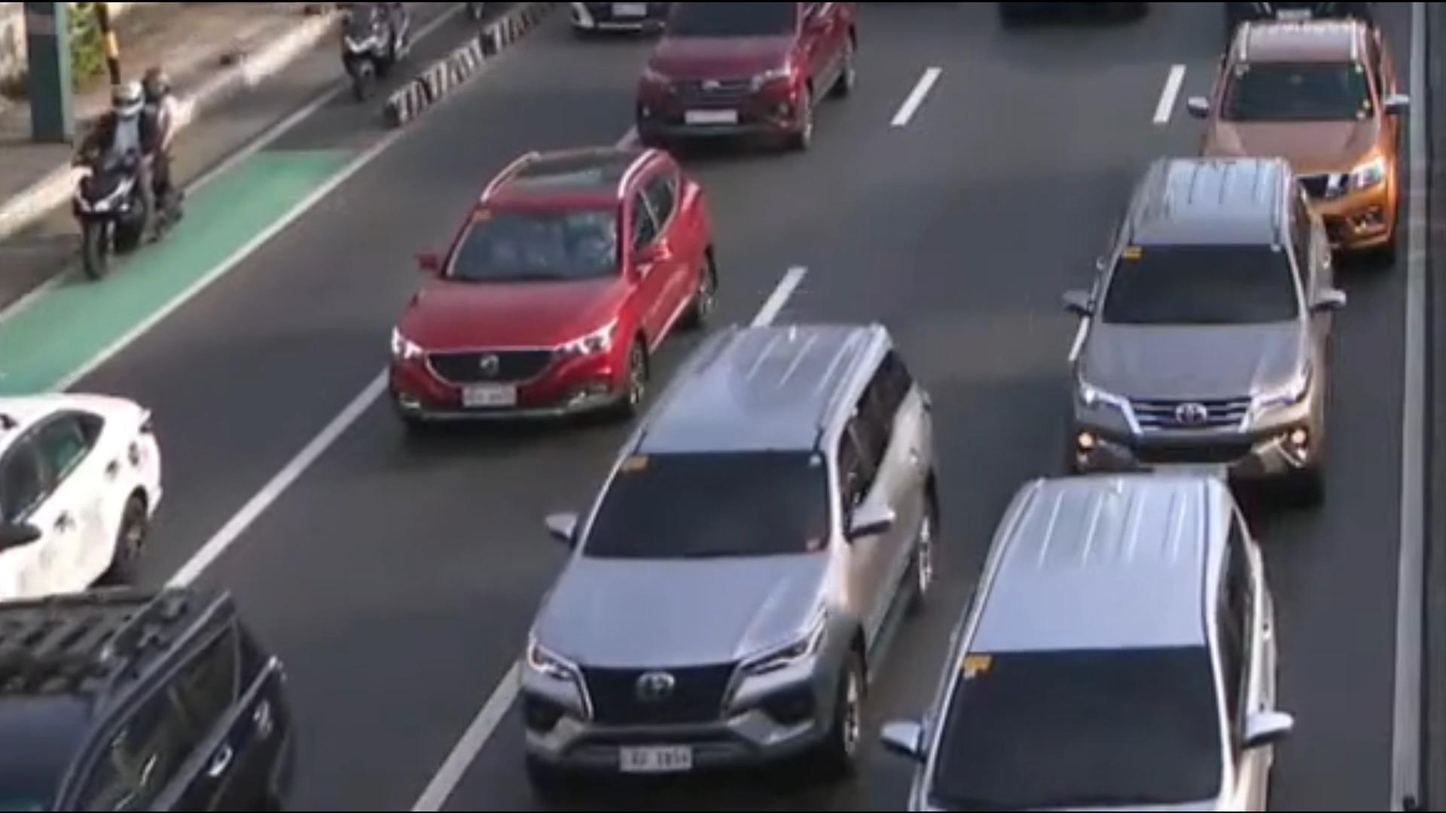Motorcycle: (71, 56, 190, 288), (337, 0, 405, 104)
SUV: (514, 327, 941, 808), (916, 480, 1282, 813), (385, 151, 719, 437), (1054, 152, 1344, 469), (0, 583, 309, 813), (1187, 19, 1412, 249), (635, 0, 857, 149)
Sedan: (0, 405, 177, 592)
